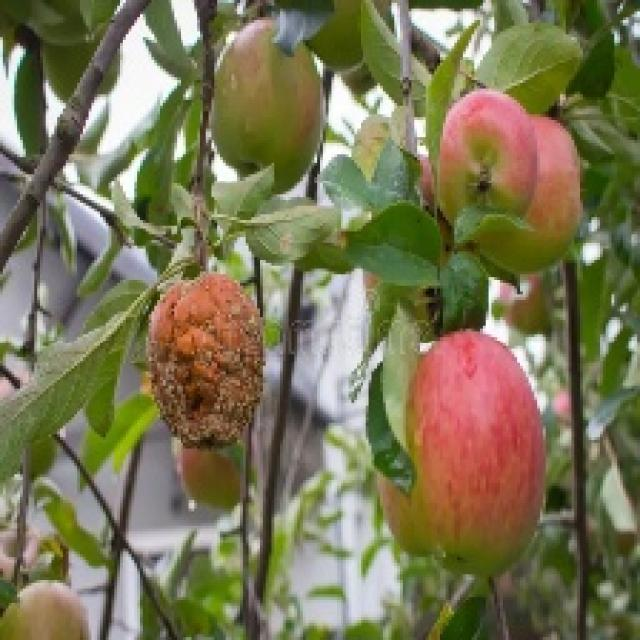rotten_apple: (154, 272, 261, 446)
